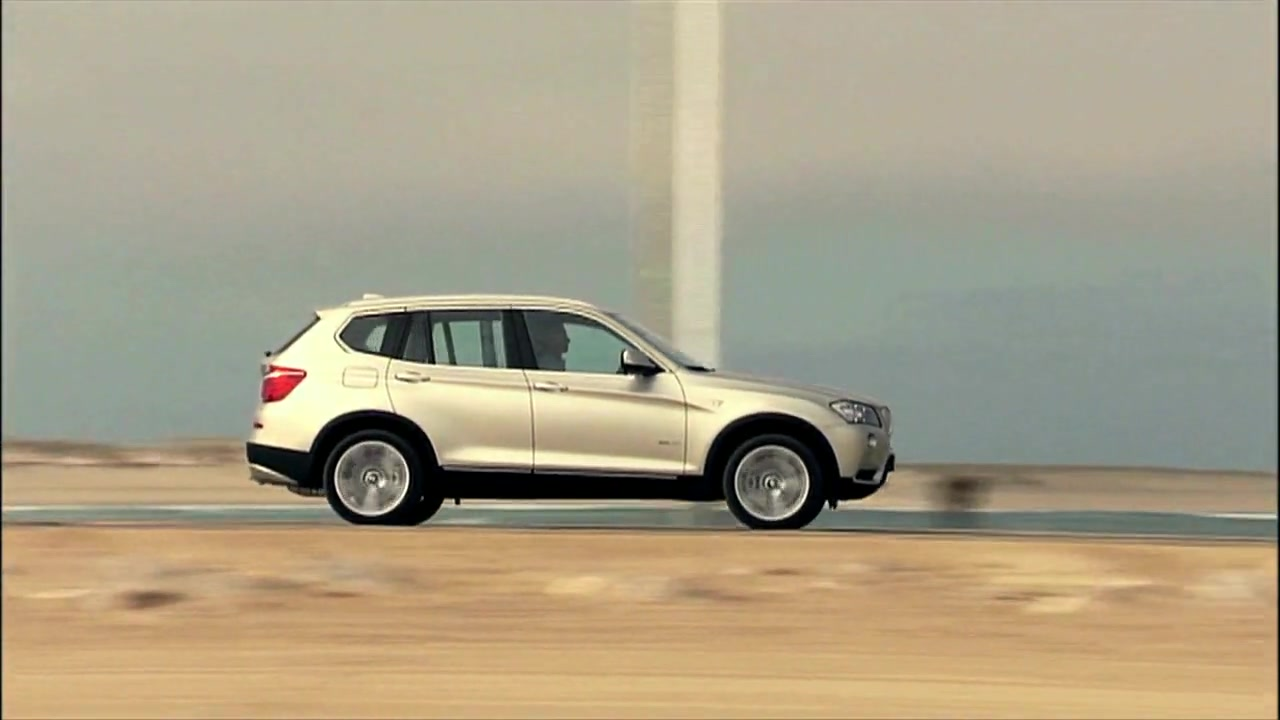car: (236, 287, 899, 537)
